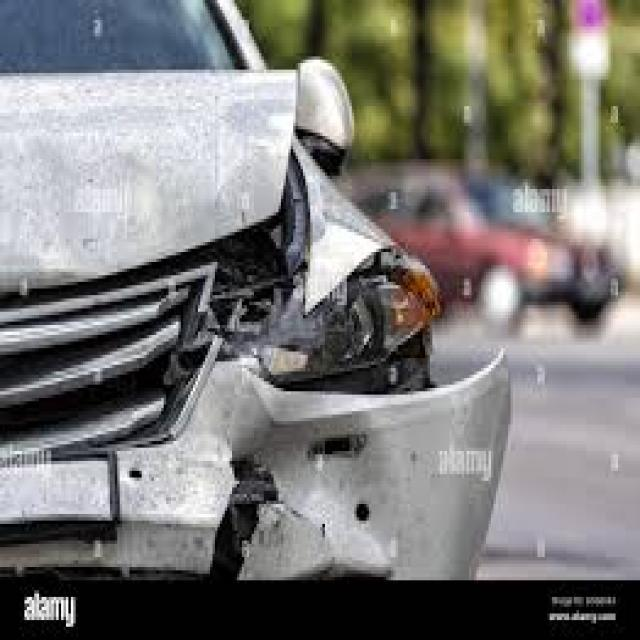damaged-head-light: (234, 246, 432, 379)
